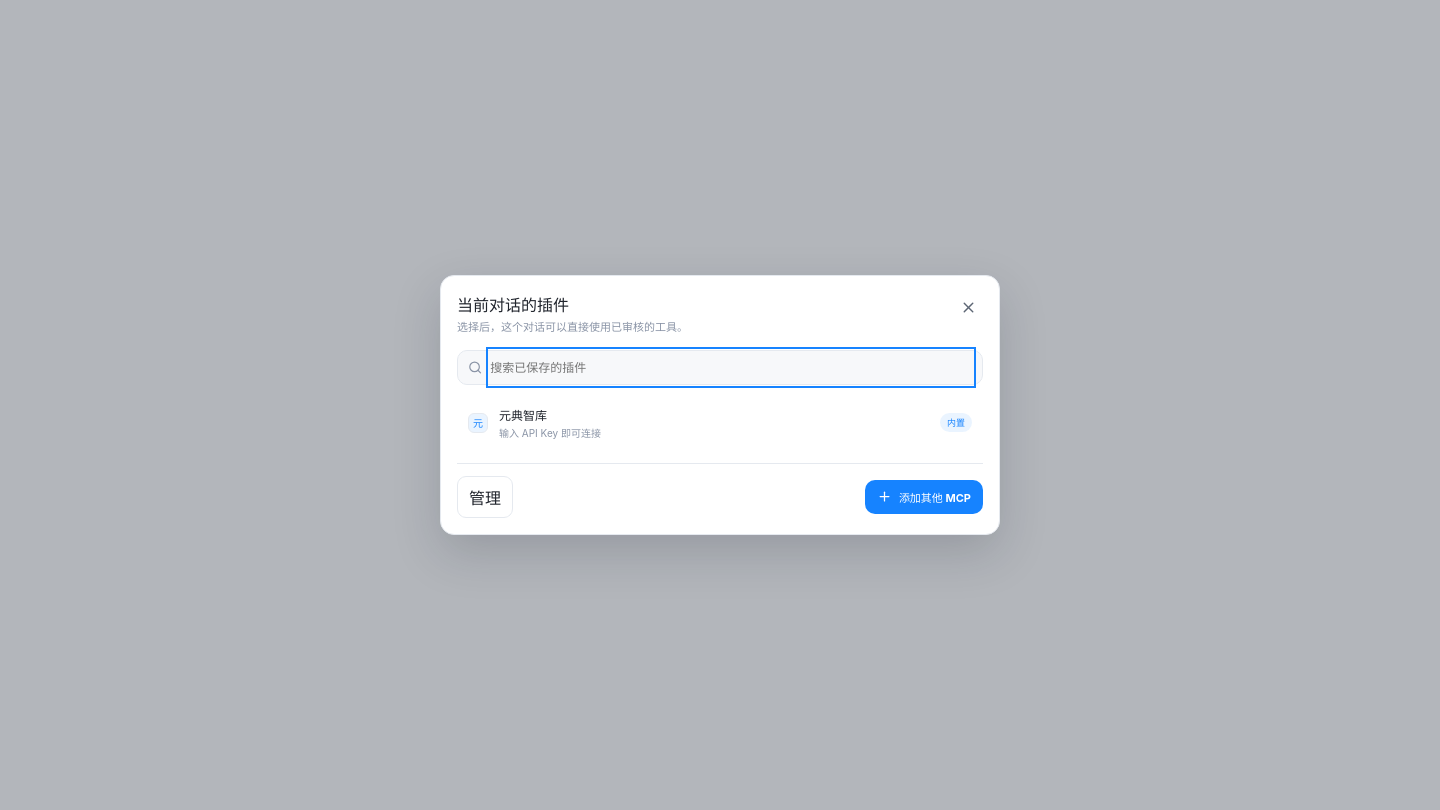
Test: picker offers Yuan Dian as one built-in plugin before any server is saved
Click the button with aria-label "连接 元典智库" at (523, 415), box [457,395,983,451]
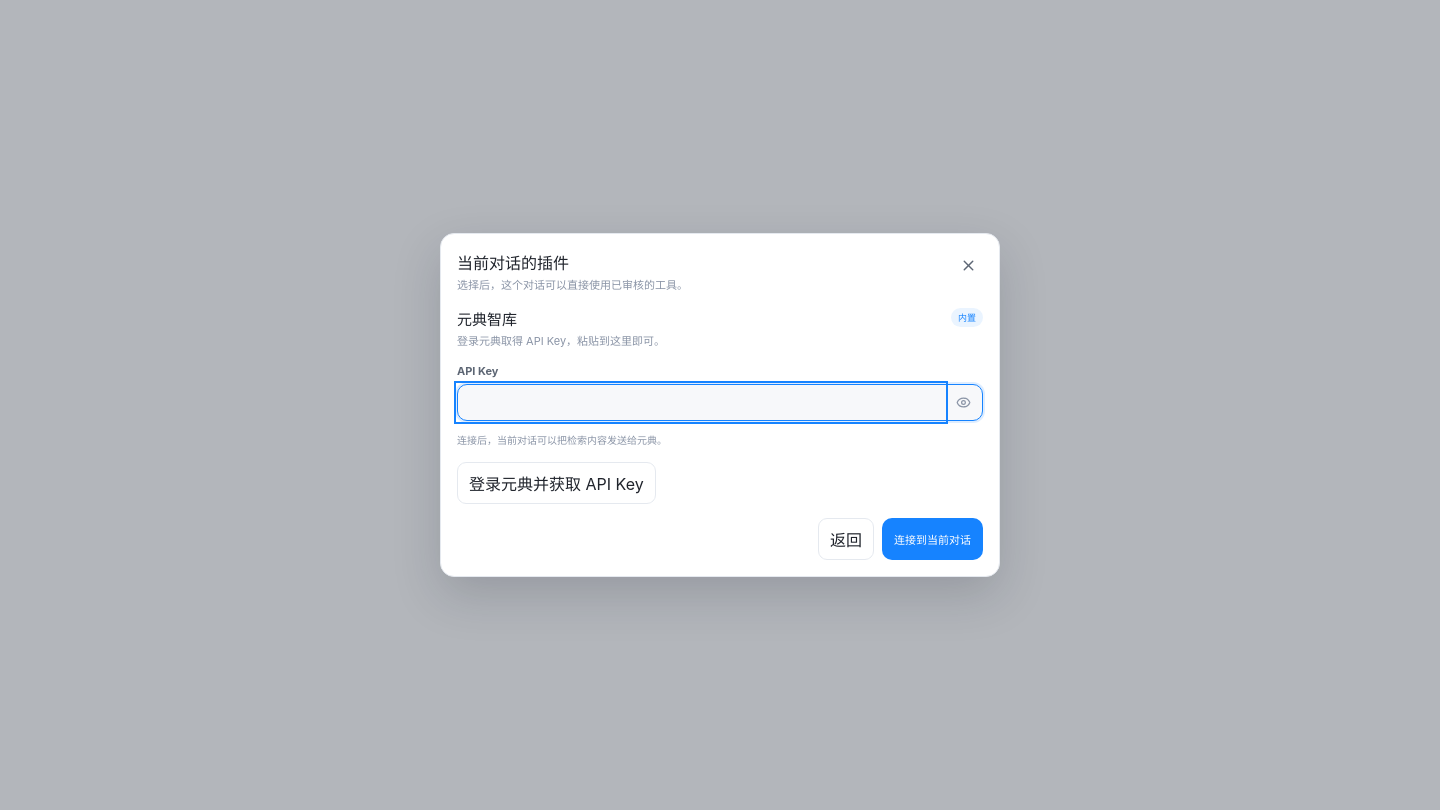
Check: the password field named "元典 API Key" is shown, box [458,385,944,420]
